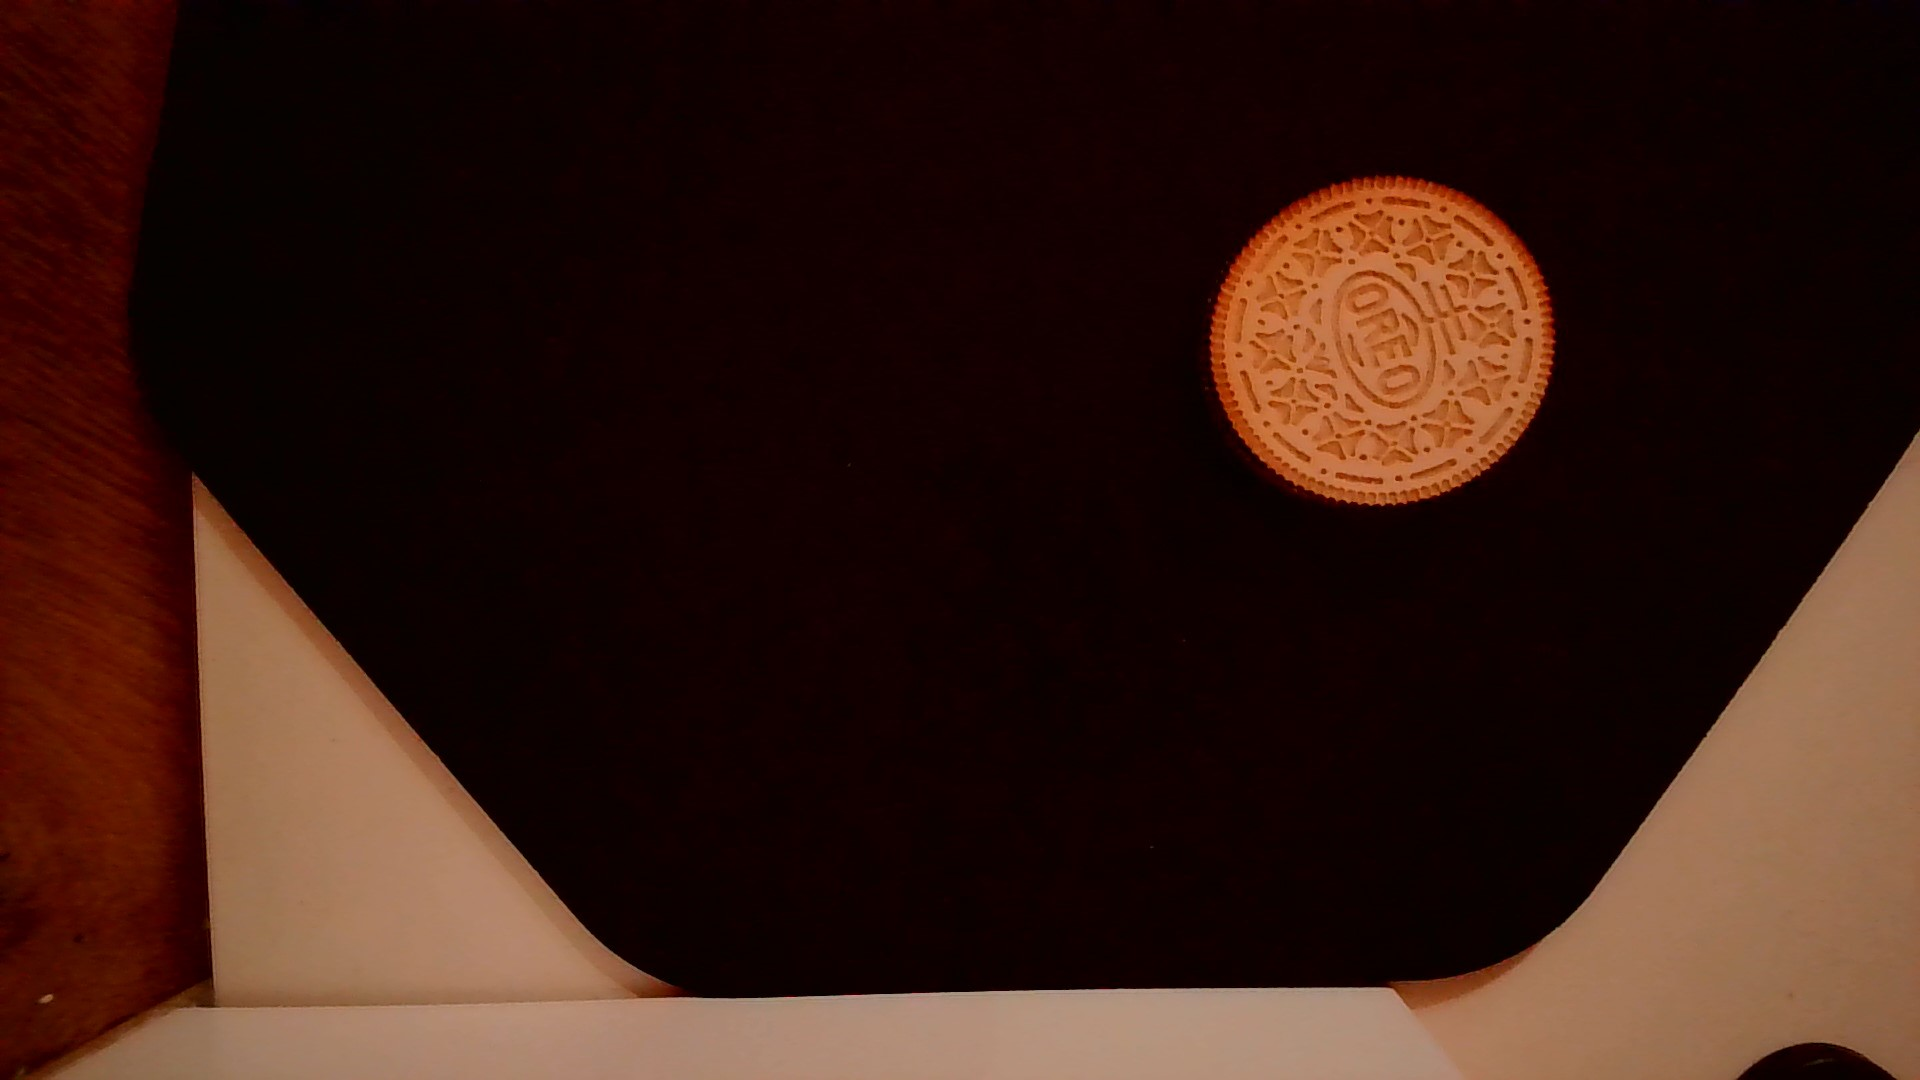Oréo: (1196, 166, 1571, 513)
